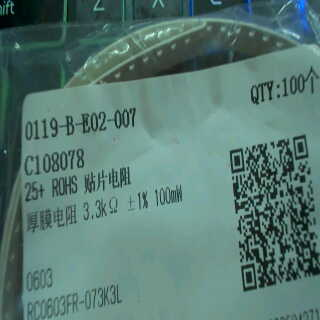3.3kO: (80, 196, 121, 223)
